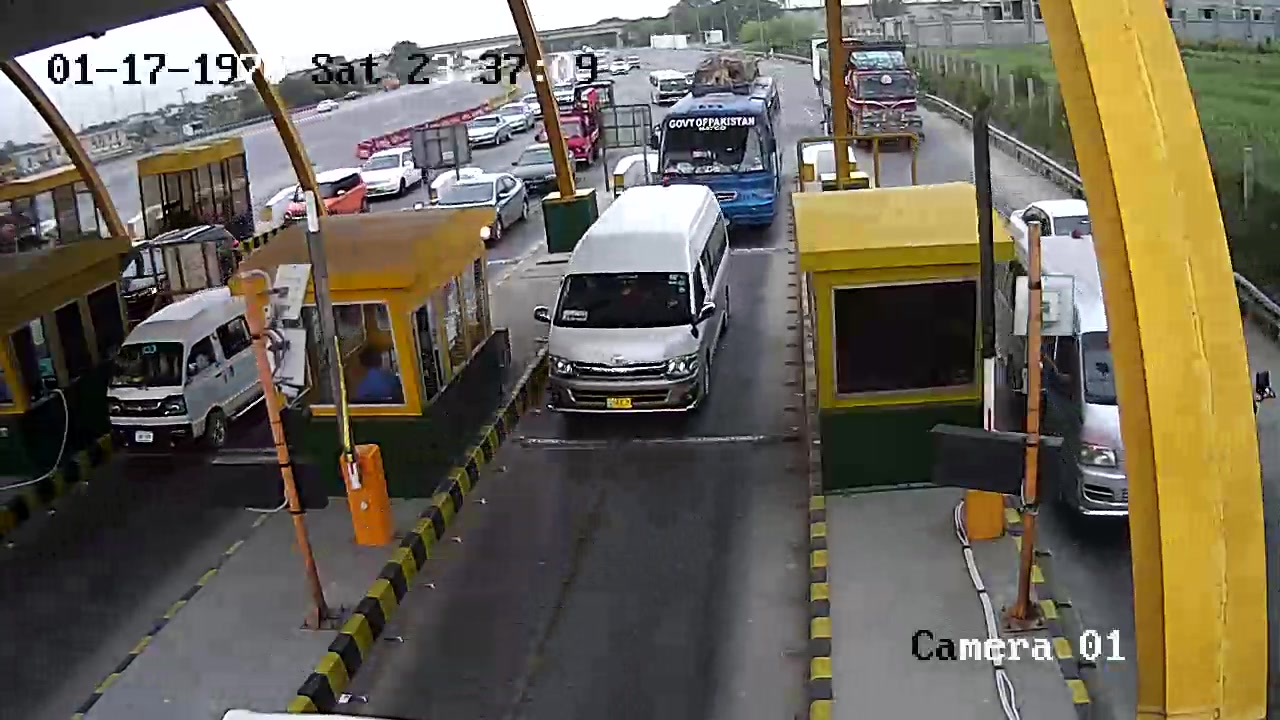F3: (545, 180, 739, 428)
